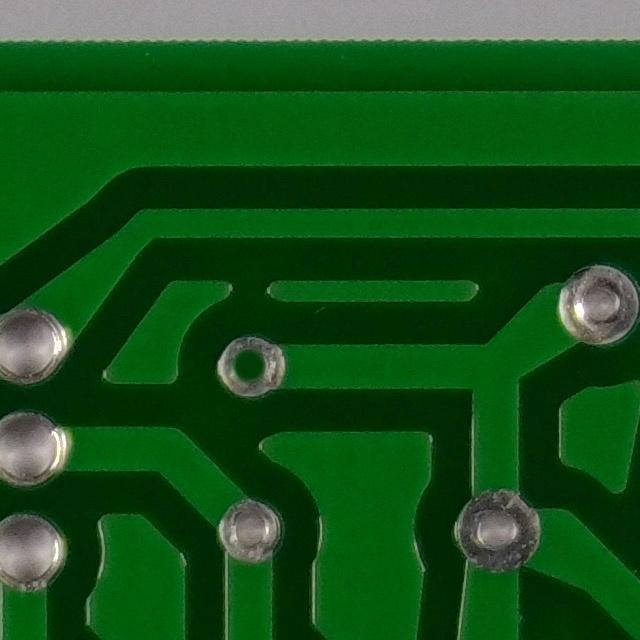missing_hole: (221, 335, 283, 399)
